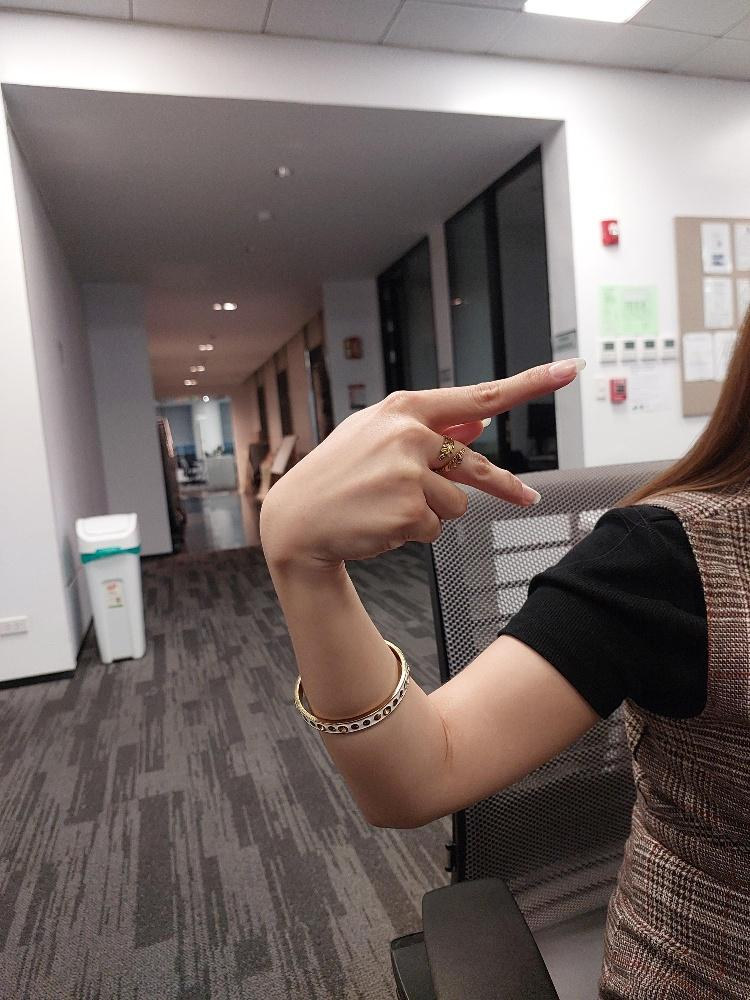k: (258, 351, 593, 573)
